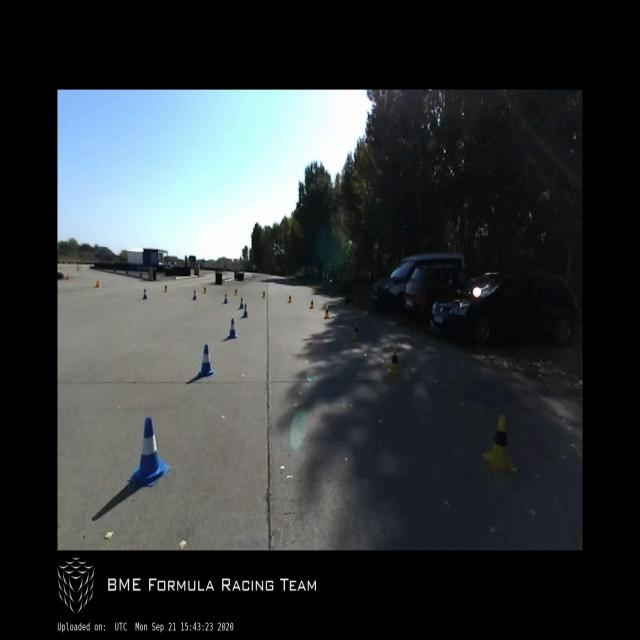blue_cone: (126, 418, 171, 487), (196, 344, 214, 378), (228, 319, 238, 339), (242, 304, 248, 318), (238, 297, 244, 310), (142, 288, 147, 300), (192, 289, 197, 300), (223, 293, 228, 303)
yellow_cone: (482, 414, 518, 474), (386, 350, 402, 378), (352, 321, 362, 342), (324, 304, 330, 318), (288, 294, 292, 304), (202, 285, 206, 294), (164, 284, 168, 293), (310, 300, 314, 308), (234, 288, 238, 296), (262, 291, 265, 298)
